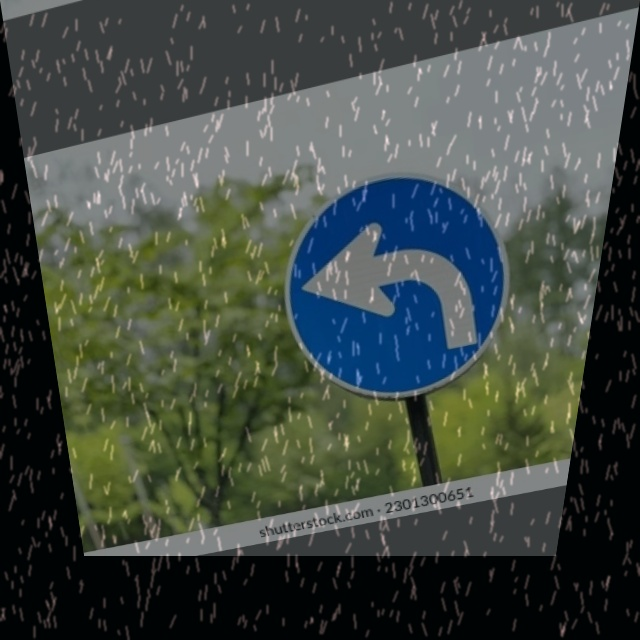Compulsory_Turn_Left_Ahead: (255, 148, 544, 417)
